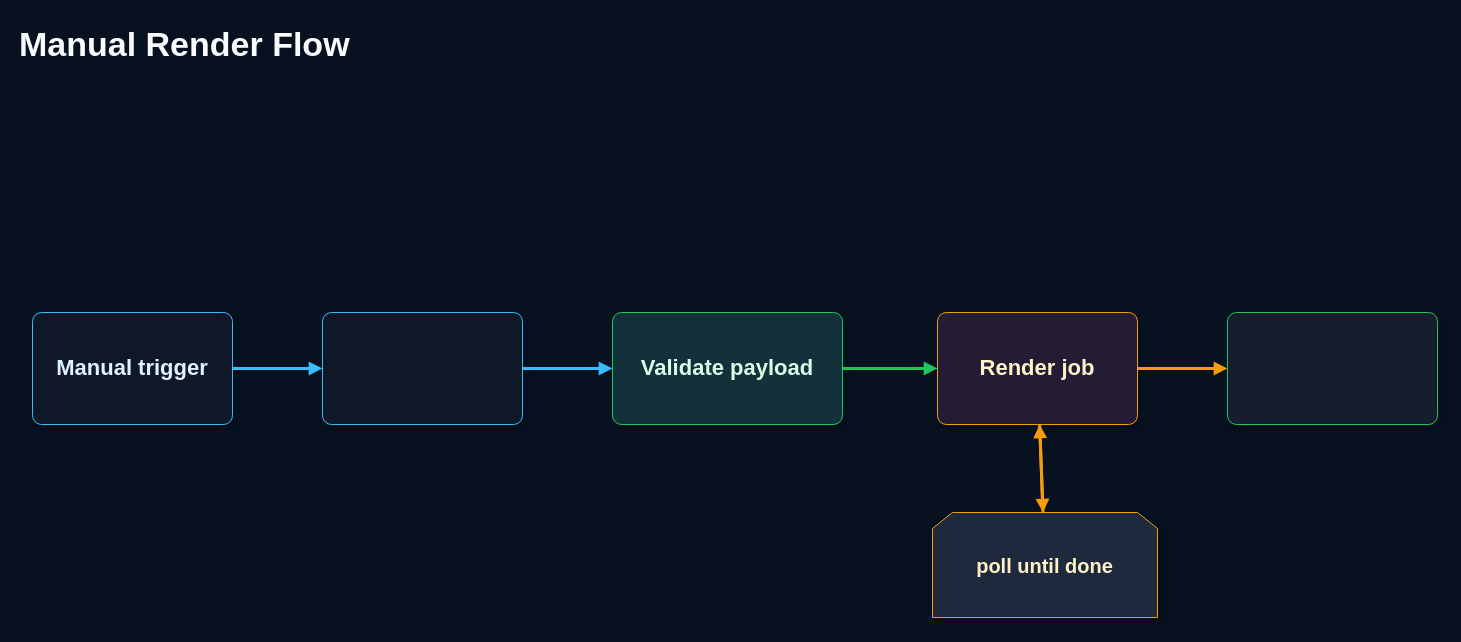
This 1461x642 diagram has some shape labels left out. Here are the shapes that lost their labels. From the top down, the centre of each, then its label:
point (423, 370): Read JSON
point (1333, 370): Open MP4
